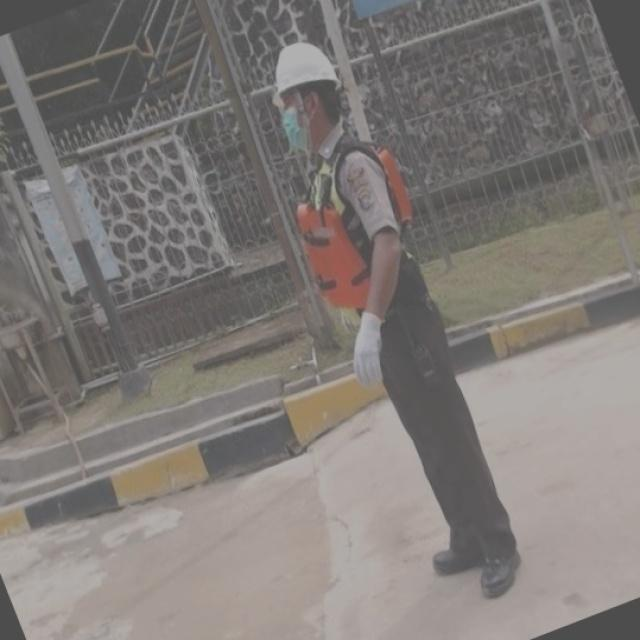Capacete: (275, 42, 339, 94)
Colete: (297, 135, 411, 309)
Pessoa: (274, 42, 519, 597)
